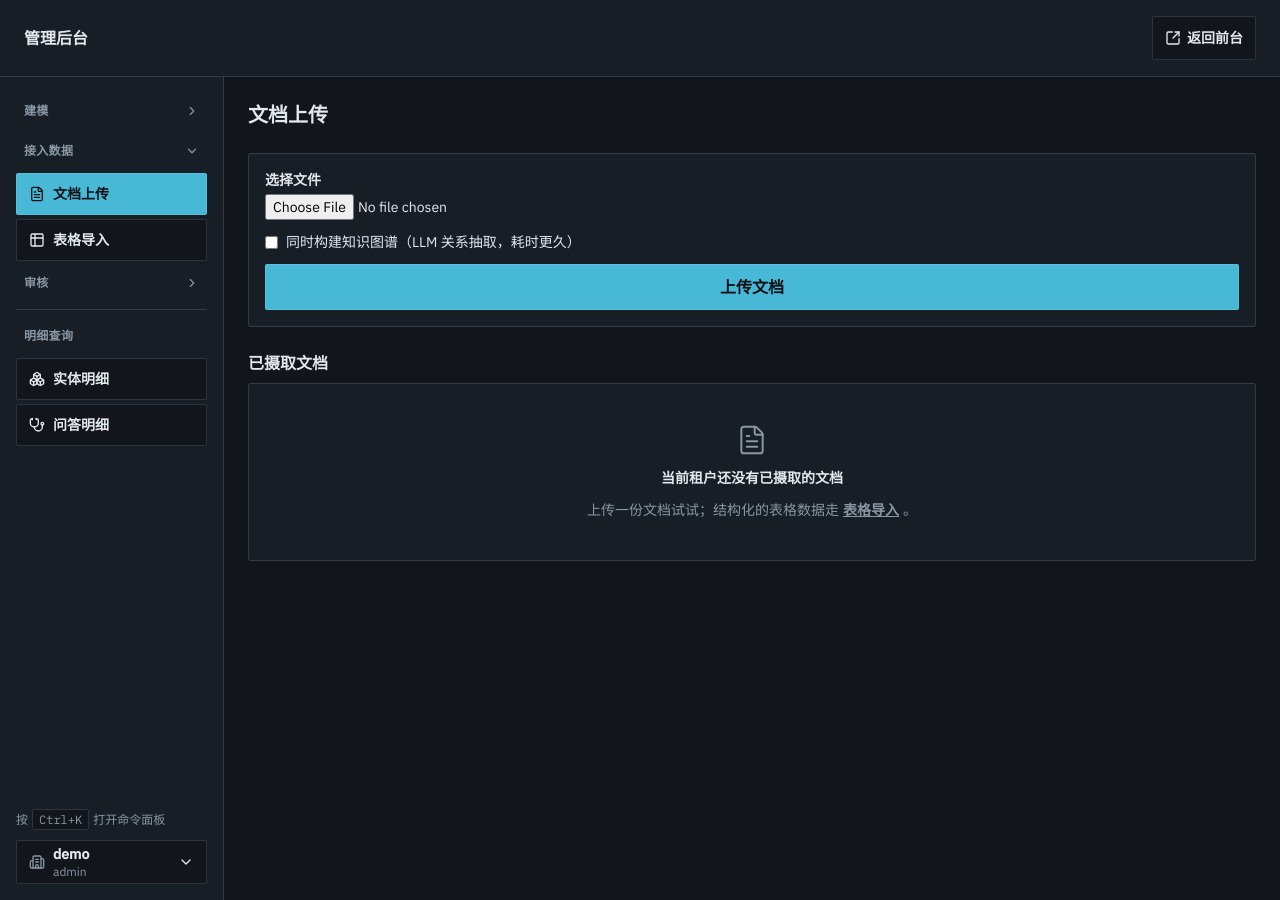
Test: 本体未确认 › 切到未确认的租户时，已勾上的要被撤掉
This screenshot has width=1280, height=900.
Click the checkbox labelled "同时构建知识图谱（LLM 关系抽取，耗时更久）" at coordinates (272, 242), box [265, 236, 278, 248]
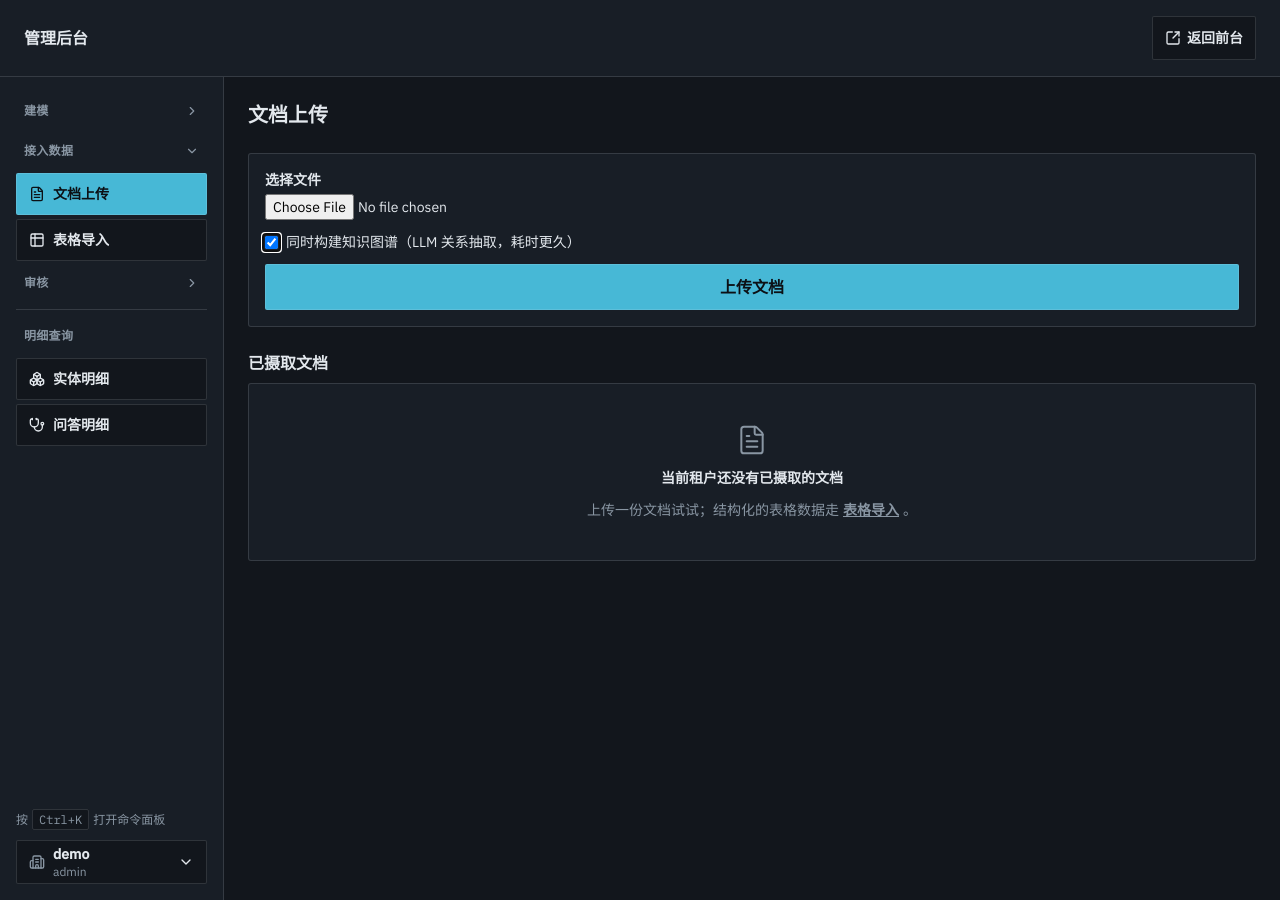
Expected: the checkbox labelled "同时构建知识图谱（LLM 关系抽取，耗时更久）" is checked, [265, 236, 278, 248]
# 租户切换现在在左下角的账号菜单里，不再是一个 select。
Click the button with aria-label "账号与租户" at coordinates (112, 862), box [16, 840, 207, 884]
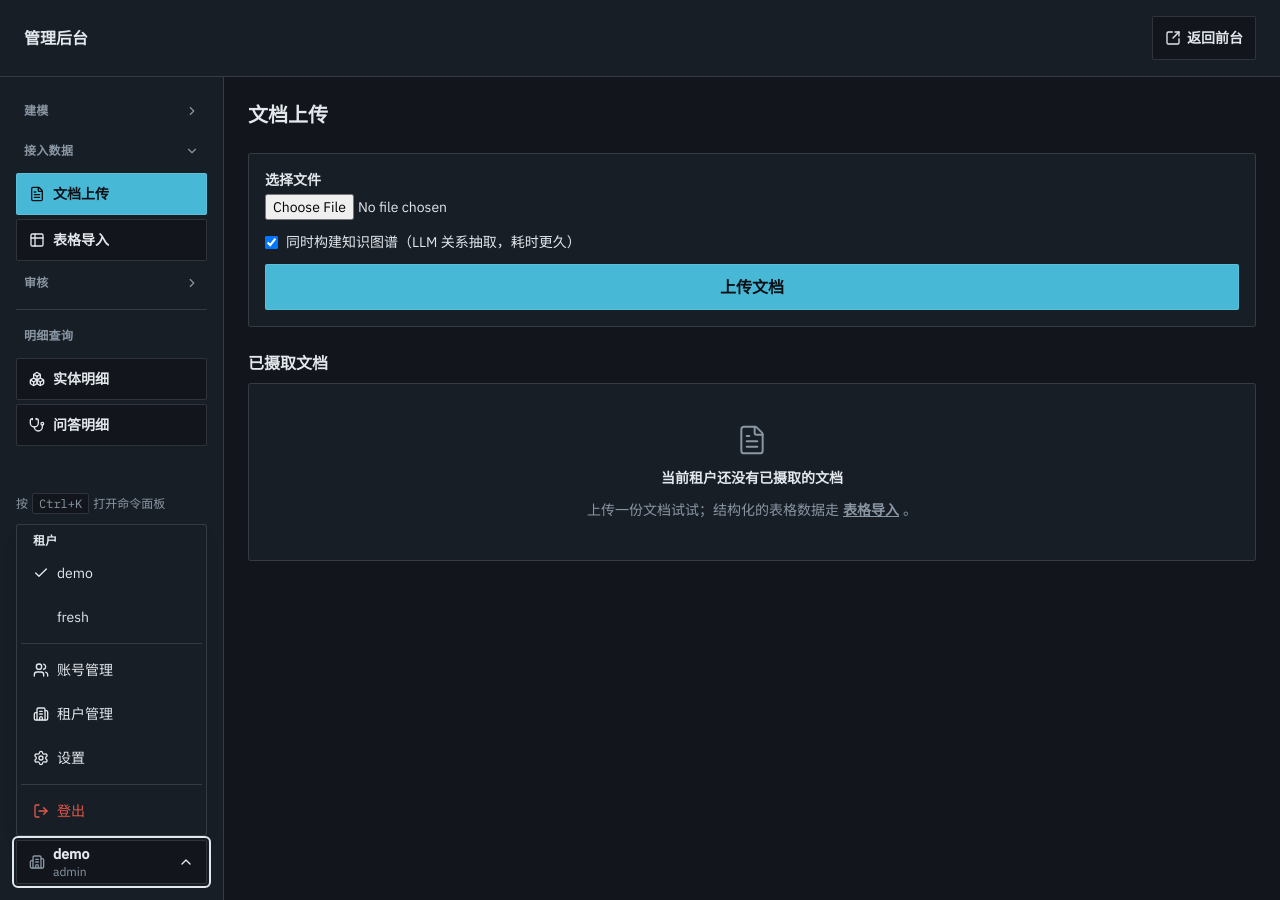
Click the menu item "fresh" at coordinates (112, 617), box [21, 597, 202, 637]
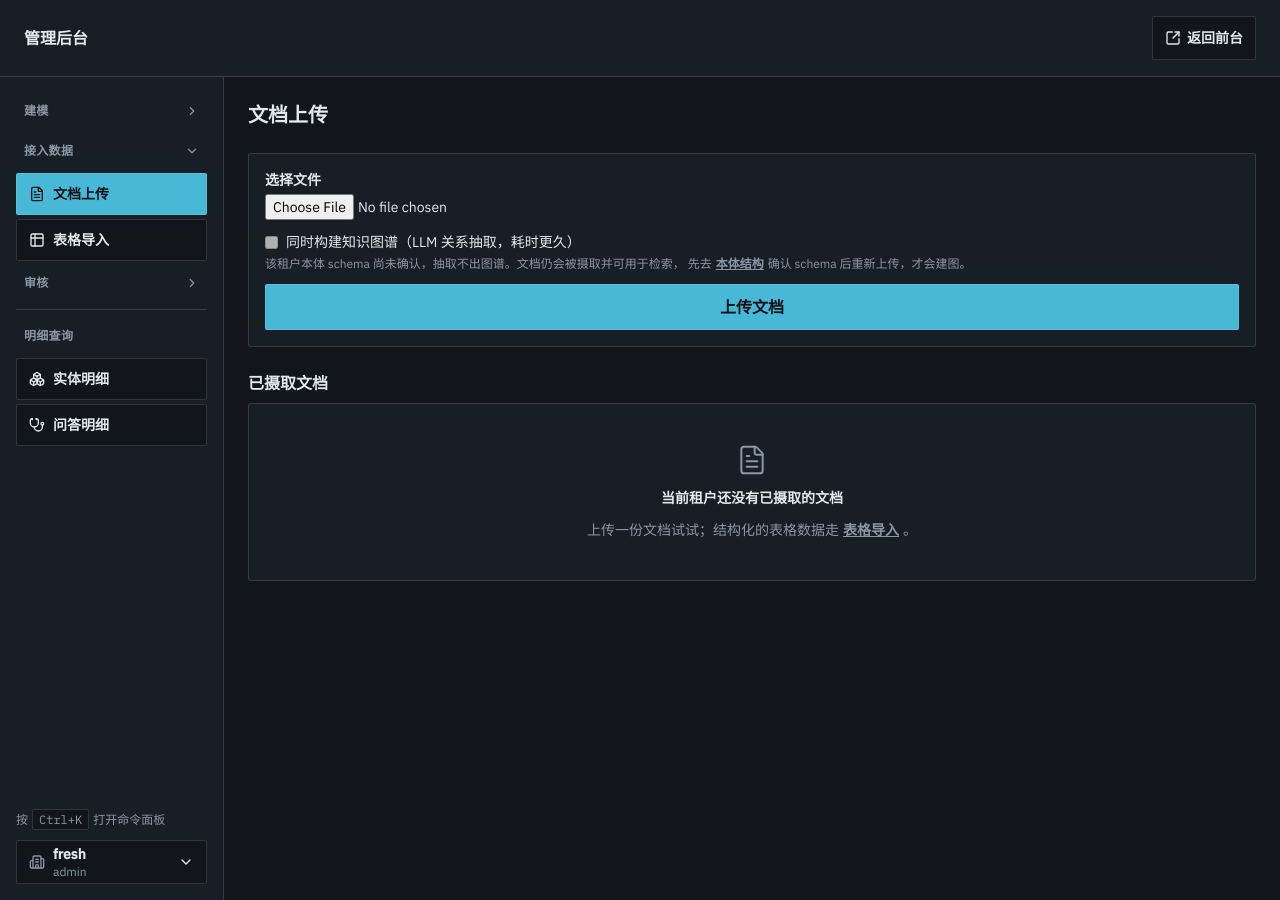
Expected: the checkbox labelled "同时构建知识图谱（LLM 关系抽取，耗时更久）" is not checked, [265, 236, 278, 248]
Expected: the checkbox labelled "同时构建知识图谱（LLM 关系抽取，耗时更久）" is disabled, [265, 236, 278, 248]
